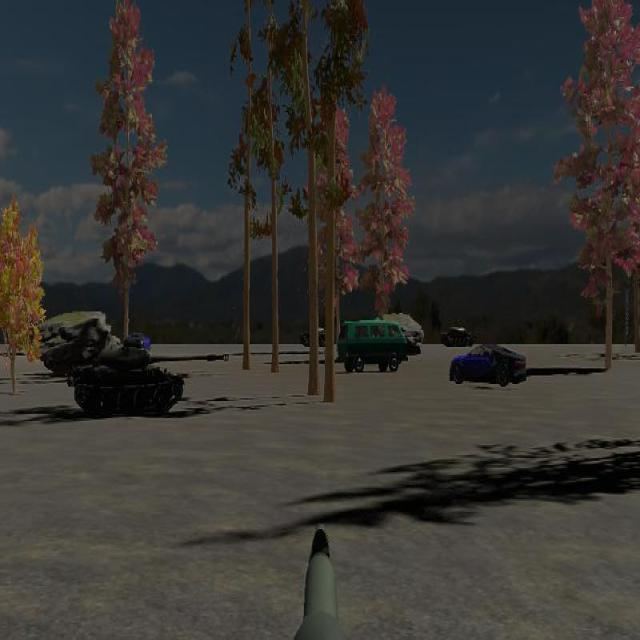Tank: (73, 344, 231, 420)
car: (337, 319, 408, 374), (449, 343, 527, 389)
